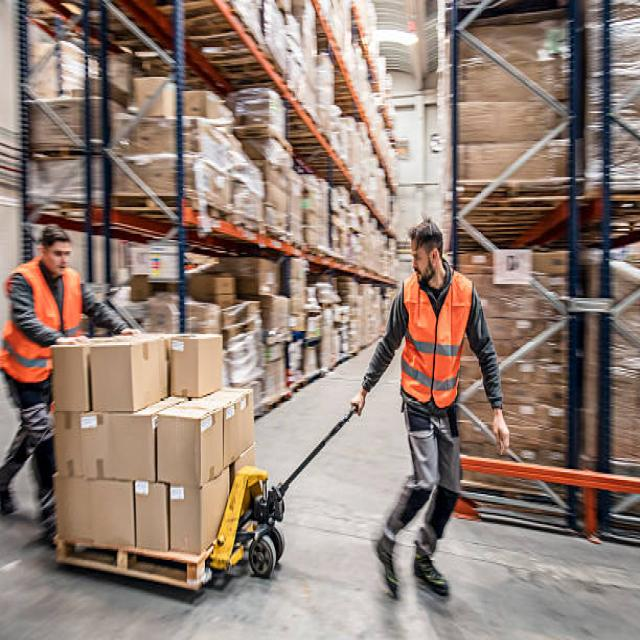Wooden-Pallets: (49, 535, 205, 596)
